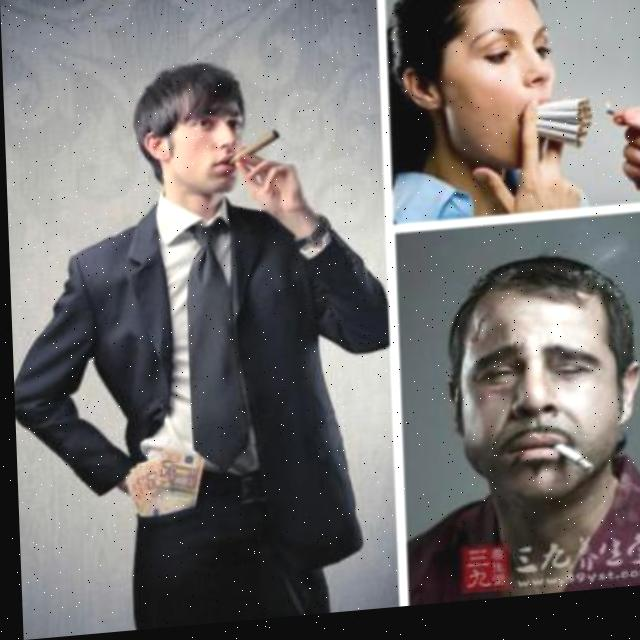cigarette: (225, 132, 281, 172), (551, 454, 593, 486), (536, 129, 584, 152), (534, 109, 587, 125)
